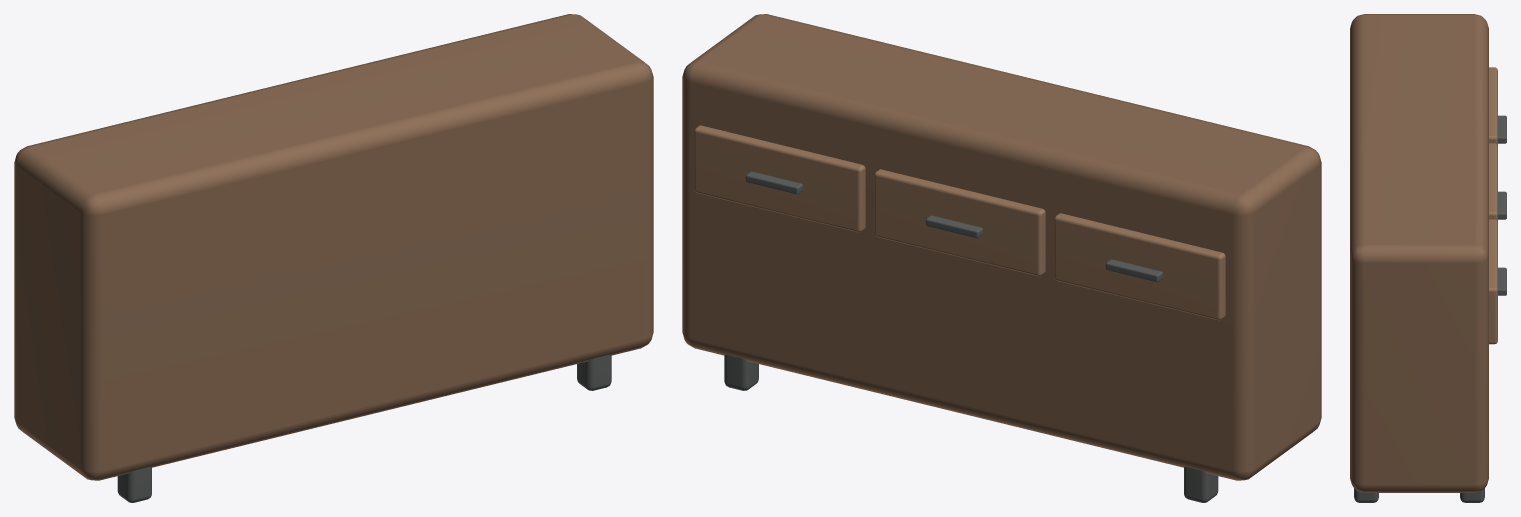
The model's file is aparador-horizonte.glb.
The picture shows the model from 3 angles, left to right: view 1: azimuth 30°, elevation 25°; view 2: azimuth 150°, elevation 25°; view 3: azimuth 270°, elevation 25°; orthographic projection. The views are drawn at different scales.
Visible parts, largest first — view 1: Caixa de madeira, Pé curto.002, Pé curto; view 2: Caixa de madeira, Frente de gaveta.002, Frente de gaveta, Frente de gaveta.001, Pé curto.003, Pé curto.001, Puxador, Puxador.001, Puxador.002; view 3: Caixa de madeira, Frente de gaveta.002, Frente de gaveta, Frente de gaveta.001, Pé curto.002, Pé curto.003, Puxador, Puxador.001, Puxador.002.
Boxes of the visible parts, x1,y1,x2,y2 form: Caixa de madeira: (14, 14, 653, 480); Pé curto.002: (577, 354, 611, 390); Pé curto: (117, 467, 151, 502); Caixa de madeira: (682, 14, 1321, 480); Frente de gaveta.002: (694, 125, 865, 232); Frente de gaveta: (1054, 213, 1225, 320); Frente de gaveta.001: (874, 169, 1045, 276); Pé curto.003: (724, 354, 758, 390); Pé curto.001: (1184, 467, 1218, 502); Puxador: (1105, 259, 1162, 282); Puxador.001: (925, 215, 982, 238); Puxador.002: (745, 171, 802, 194); Caixa de madeira: (1350, 14, 1488, 492); Frente de gaveta.002: (1489, 219, 1497, 344); Frente de gaveta: (1489, 67, 1497, 145); Frente de gaveta.001: (1489, 143, 1497, 221); Pé curto.002: (1354, 488, 1378, 502); Pé curto.003: (1460, 488, 1484, 502); Puxador: (1498, 115, 1506, 143); Puxador.001: (1498, 191, 1506, 219); Puxador.002: (1498, 267, 1506, 295).
Bounding box in the file's own units: 1.38 × 0.7275 × 0.3795.
